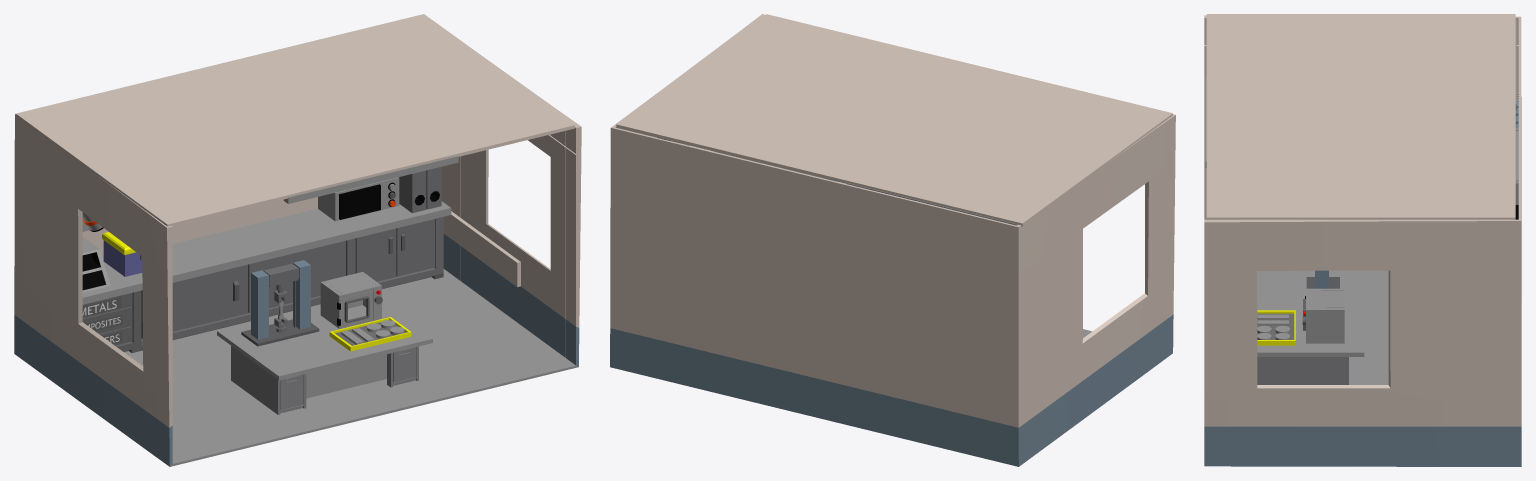
File: DRDO_CFEES_Lab2_Materials_Testing_FullColor.glb
3 views of the same model, side by side, from view 1: azimuth 30°, elevation 25°; view 2: azimuth 150°, elevation 25°; view 3: azimuth 270°, elevation 25° (orthographic). The views are drawn at different scales.
Parts seen in each view (by area): view 1: polySurface193; view 2: polySurface193; view 3: polySurface193.
Boxes of the visible parts, box(x1,y1,x2,y2) form: polySurface193: box(14, 14, 581, 466); polySurface193: box(610, 14, 1175, 466); polySurface193: box(1204, 14, 1521, 466).
Size of the model in its own units: 1.79 by 1.01 by 1.16.
